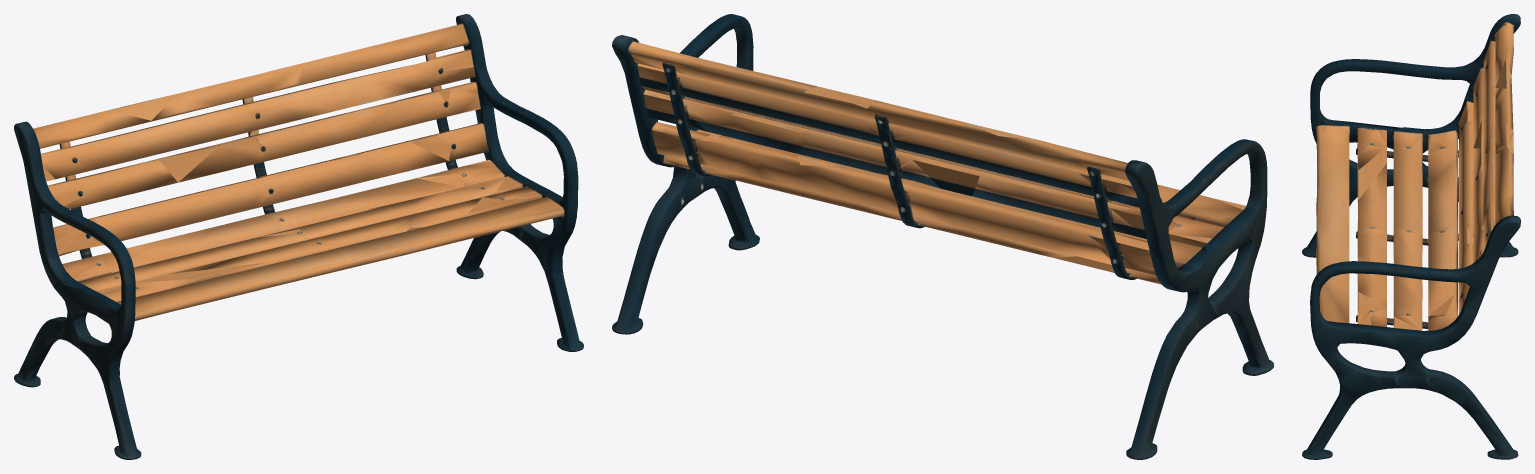
Rendered from prop_park_bench_01.glb.
3 views of the same model, side by side, from view 1: azimuth 30°, elevation 25°; view 2: azimuth 150°, elevation 25°; view 3: azimuth 270°, elevation 25° (orthographic). The views are drawn at different scales.
Visible parts, largest first — view 1: output_unwrapped; view 2: output_unwrapped; view 3: output_unwrapped.
Boxes of the visible parts, box(x1,y1,x2,y2) form: output_unwrapped: box(14, 14, 583, 459); output_unwrapped: box(612, 14, 1273, 459); output_unwrapped: box(1302, 14, 1520, 459).
Bounding box in the file's own units: 1.9 × 0.9913 × 0.8283.
Materials: 1 (1 with a texture image).
